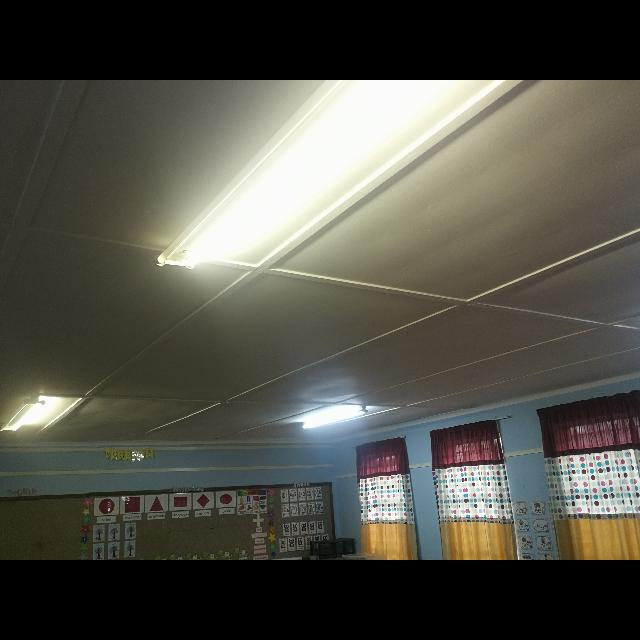Straight-Tube-Fluorescent-Lamp: (147, 80, 523, 278), (287, 396, 387, 449), (0, 389, 68, 446)
